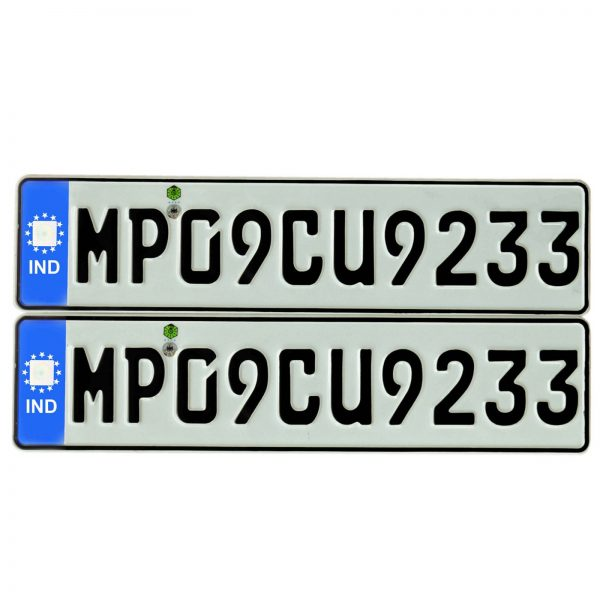number_plate: (15, 173, 593, 314), (13, 315, 589, 454)
